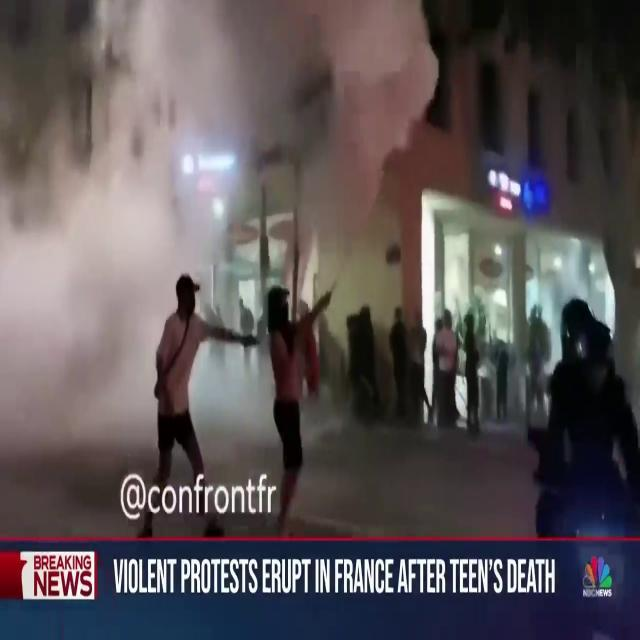Smoke: (0, 0, 195, 476), (130, 0, 440, 272)
